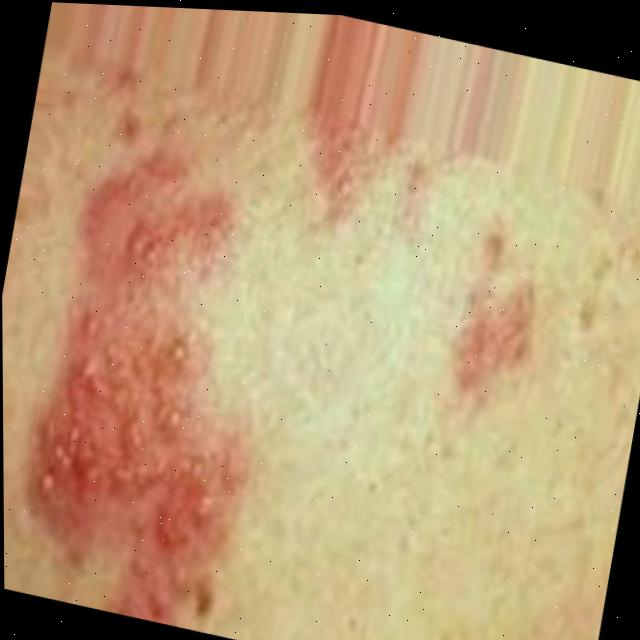Shingles: (1, 103, 301, 638), (431, 256, 552, 423)
